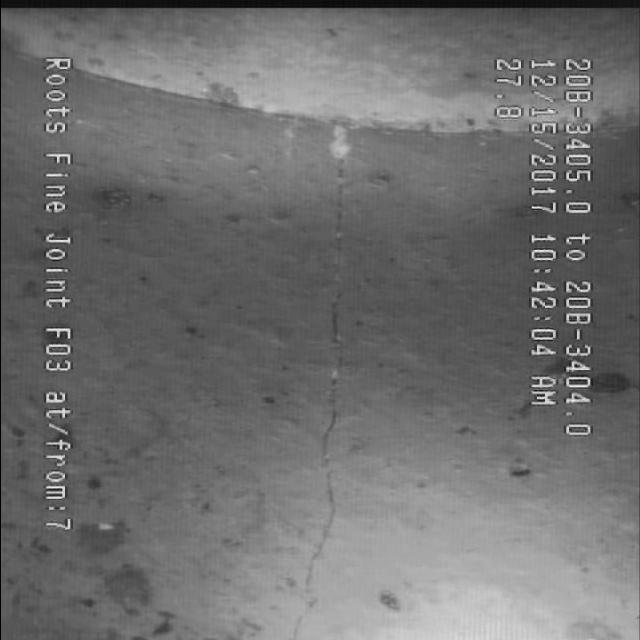Crack: (288, 141, 376, 593)
